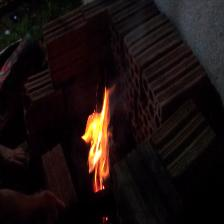Fire: (83, 85, 115, 194)
